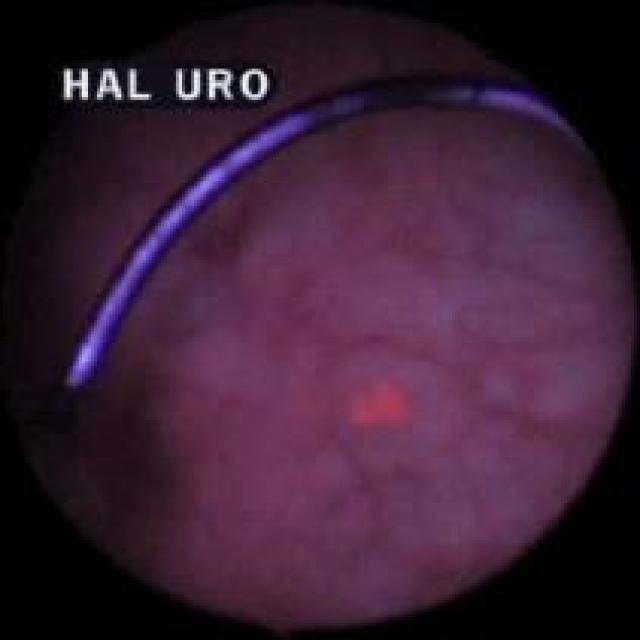color misalignment: (56, 55, 271, 105)
contrast: (41, 351, 148, 557)
instrument: (60, 83, 626, 435)
